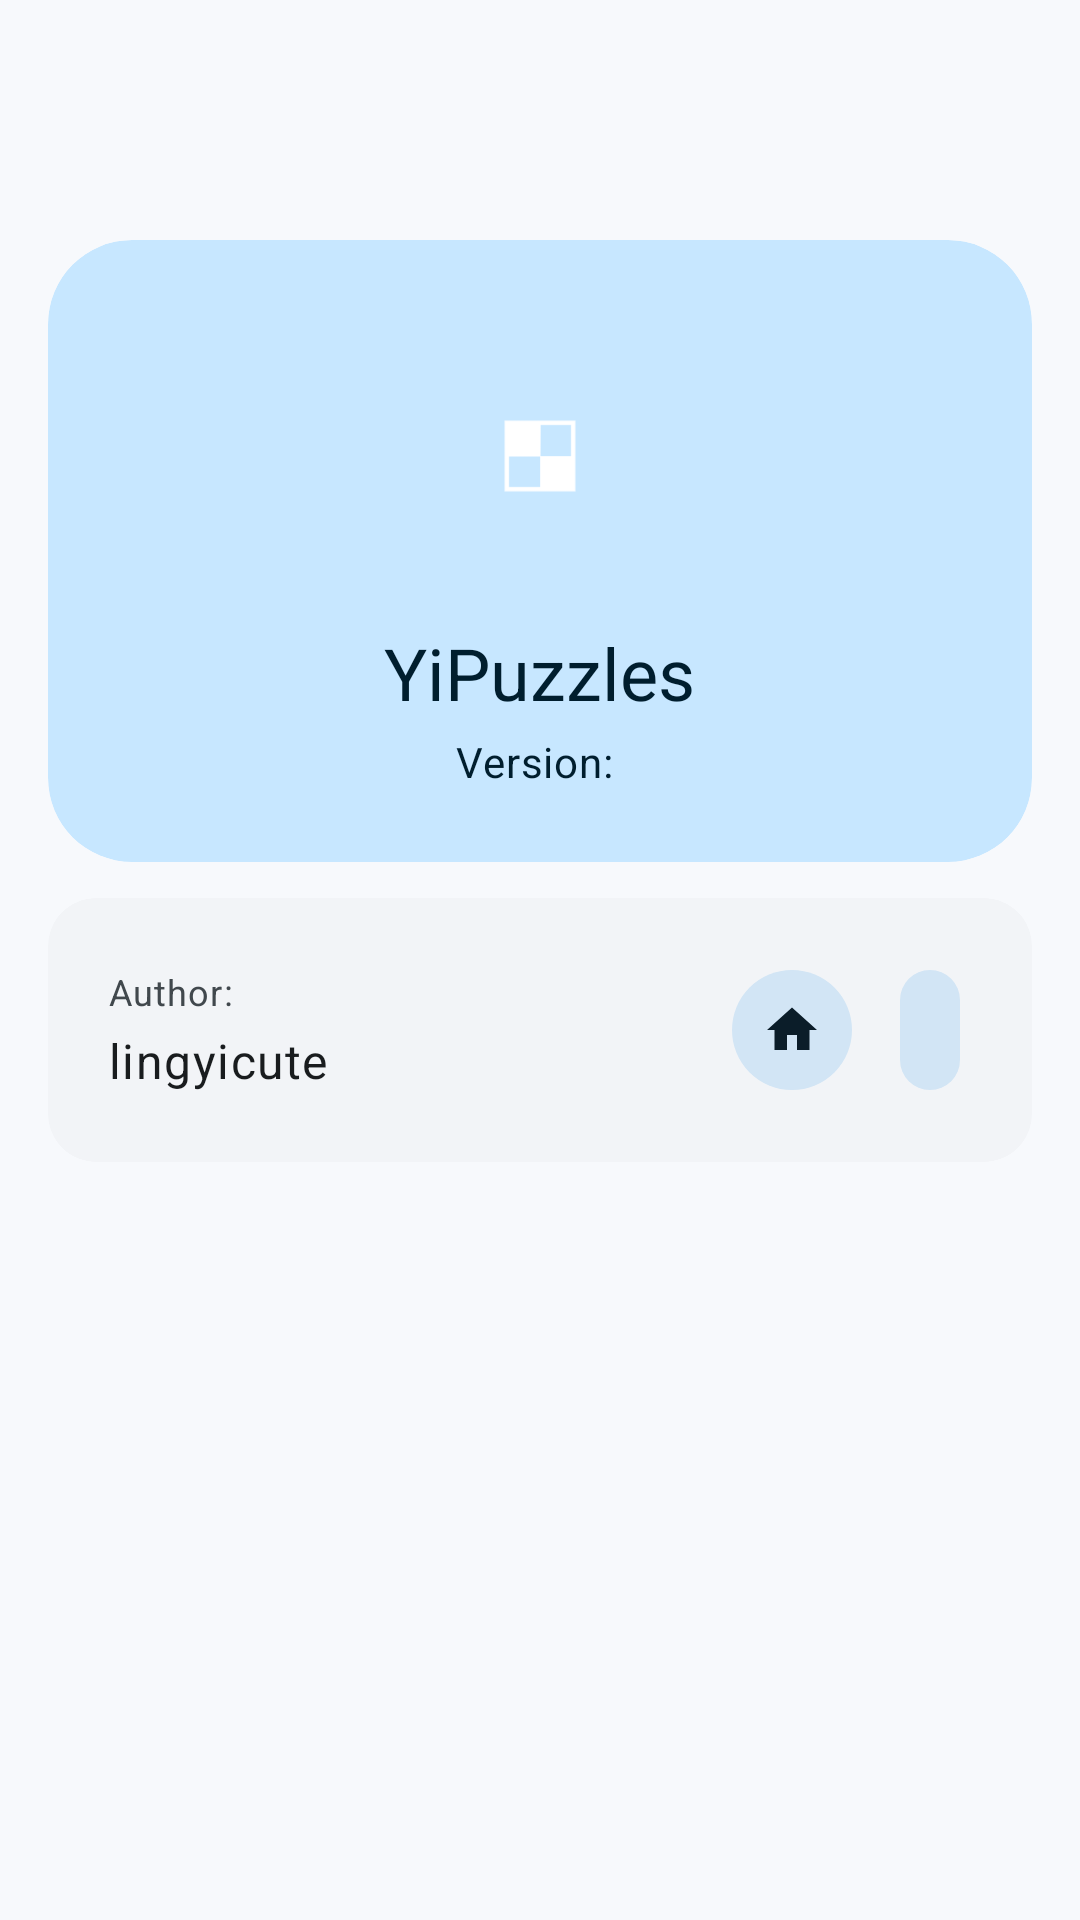

Icon click points for this 1080px×1920px phone screenshot, format (x=x, y=y):
Home: (x=792, y=1030)
